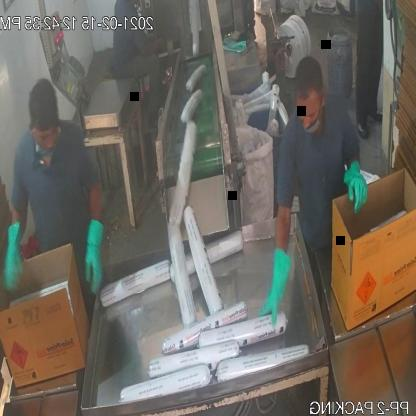glove: (254, 239, 295, 334), (80, 213, 108, 301), (0, 210, 25, 299), (333, 162, 372, 216)
